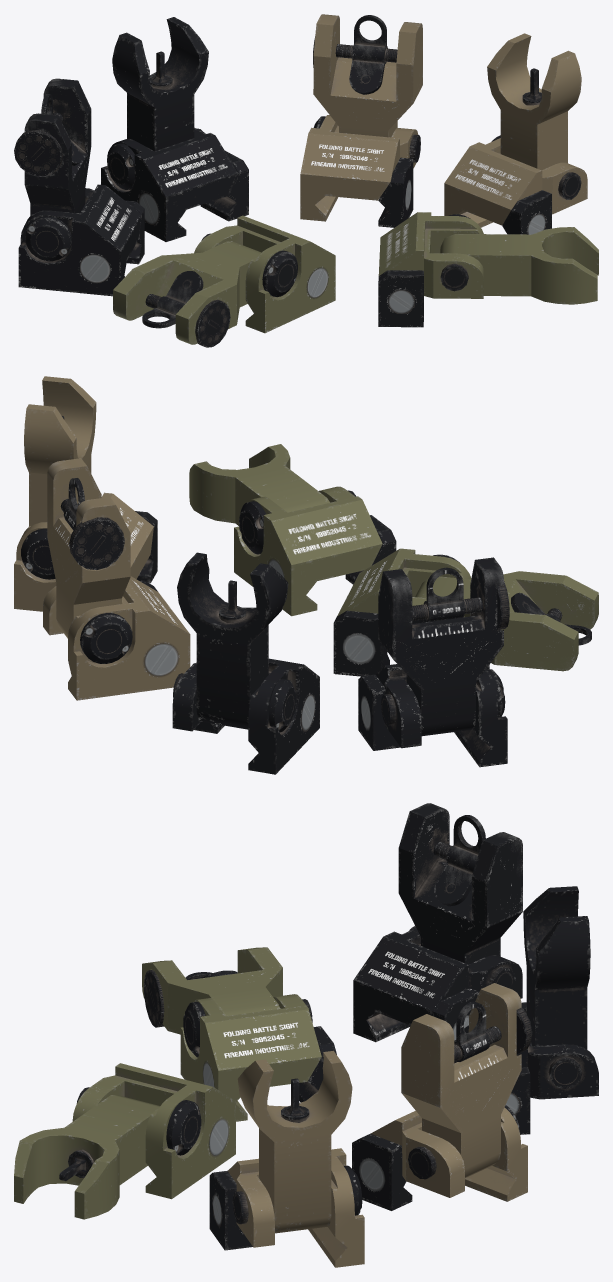
File: iron_sight_free.glb
3 renders of one model, top to bottom at view 1: azimuth 30°, elevation 25°; view 2: azimuth 150°, elevation 25°; view 3: azimuth 270°, elevation 25°, orthographic. The views are drawn at different scales.
Visible parts, largest first — view 1: Sight-Base.001, Aim-Base.001, Sight-Main.002, Sight-Main.003, Sight-Base.002, Aim-Base.002, Aim-Base.003, Aim-Main.003, Aim-Main.002, Sight-Base.003, Aim-Main.001, Sight-Main.001; view 2: Sight-Main.001, Aim-Base.003, Aim-Main.001, Sight-Base.002, Sight-Main.002, Sight-Main.003, Aim-Base.001, Sight-Base.001, Sight-Base.003, Aim-Main.002, Aim-Main.003, Aim-Base.002; view 3: Sight-Main.002, Sight-Main.001, Aim-Main.002, Sight-Base.003, Sight-Base.001, Aim-Base.003, Aim-Main.003, Sight-Base.002, Aim-Main.001, Aim-Base.002, Sight-Main.003, Aim-Base.001.
Part boxes in pixels (x1,y1,x2,y2): Sight-Base.001: (18,184,144,296); Aim-Base.001: (101,127,248,241); Sight-Main.002: (313,14,422,137); Sight-Main.003: (113,241,261,347); Sight-Base.002: (300,115,420,227); Aim-Base.002: (444,135,587,234); Aim-Base.003: (378,212,483,327); Aim-Main.003: (440,227,598,304); Aim-Main.002: (487,33,581,170); Sight-Base.003: (194,215,335,333); Aim-Main.001: (112,17,208,151); Sight-Main.001: (14,78,91,215); Sight-Main.001: (378,557,509,736); Aim-Base.003: (234,486,396,616); Aim-Main.001: (177,552,288,729); Sight-Base.002: (43,576,190,700); Sight-Main.002: (47,458,130,638); Sight-Main.003: (415,571,598,671); Aim-Base.001: (172,658,319,774); Sight-Base.001: (358,664,507,767); Sight-Base.003: (333,548,471,676); Aim-Main.002: (24,376,96,526); Aim-Main.003: (189,444,329,525); Aim-Base.002: (14,492,157,611); Sight-Main.002: (401,983,532,1177); Sight-Main.001: (398,803,522,964); Aim-Main.002: (237,1050,352,1233); Sight-Base.003: (180,994,336,1121); Sight-Base.001: (353,926,522,1042); Aim-Base.003: (72,1063,235,1199); Aim-Main.003: (14,1095,160,1219); Sight-Base.002: (352,1105,527,1210); Aim-Main.001: (523,886,590,1049); Aim-Base.002: (209,1148,364,1267); Sight-Main.003: (142,947,282,1034); Aim-Base.001: (464,1002,598,1134).
Size of what is drawn, in the model's own units: 29.42 by 9.76 by 25.53.
3 materials, 3 textured.
